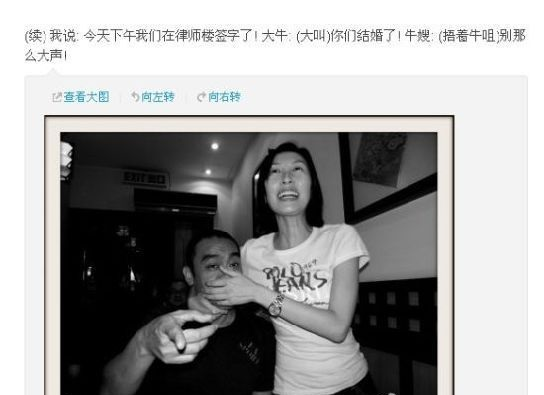face: (199, 241, 244, 305), (269, 156, 309, 212)
